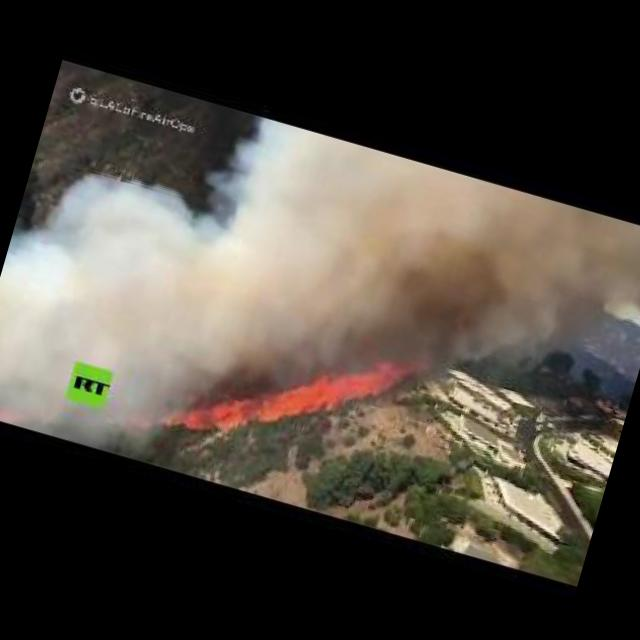fire: (170, 303, 419, 485)
smoke: (323, 202, 521, 414)
